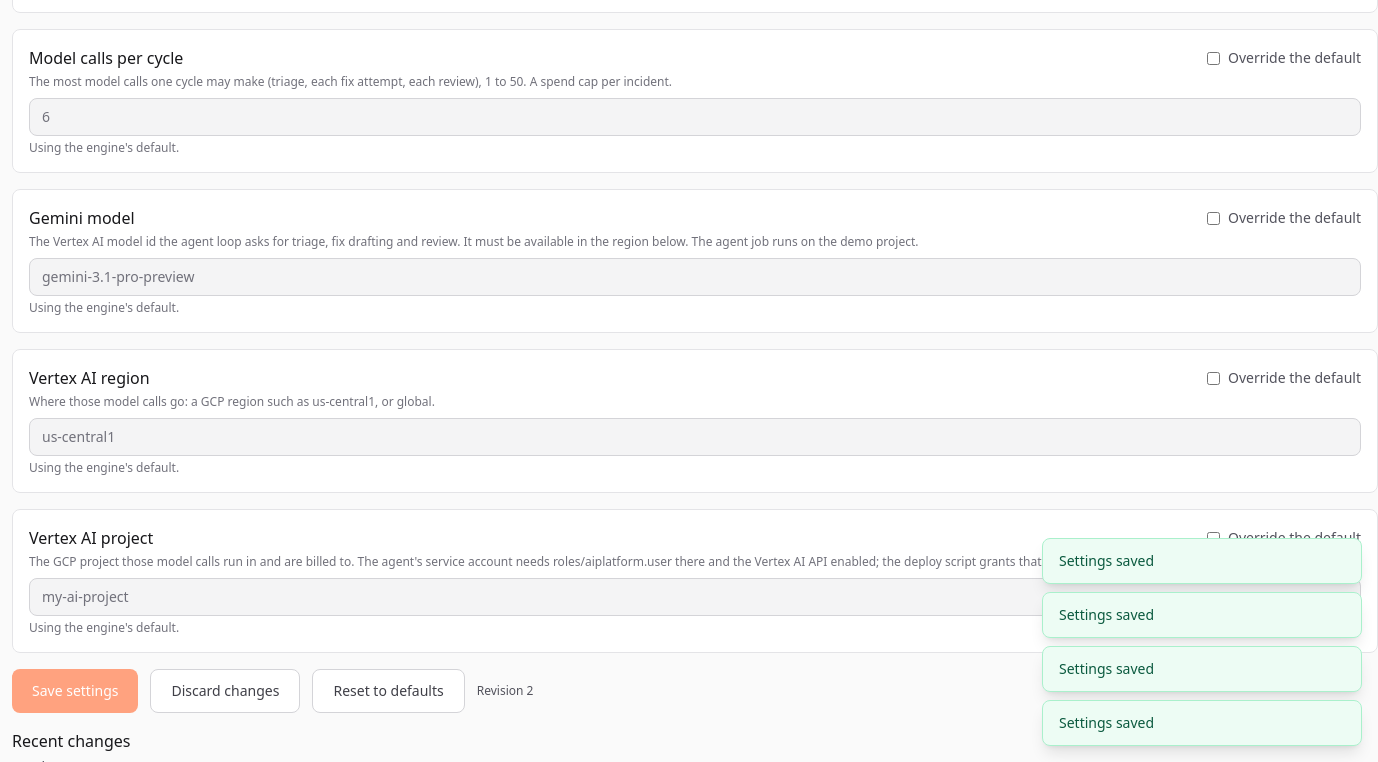
SettingsEditor › refuses a region that isn't one without saving
(page scrolled)
Click the checkbox labelled "Override the default" in the row of "Vertex AI region" at (1214, 378), box [1207, 372, 1220, 384]
(page scrolled)
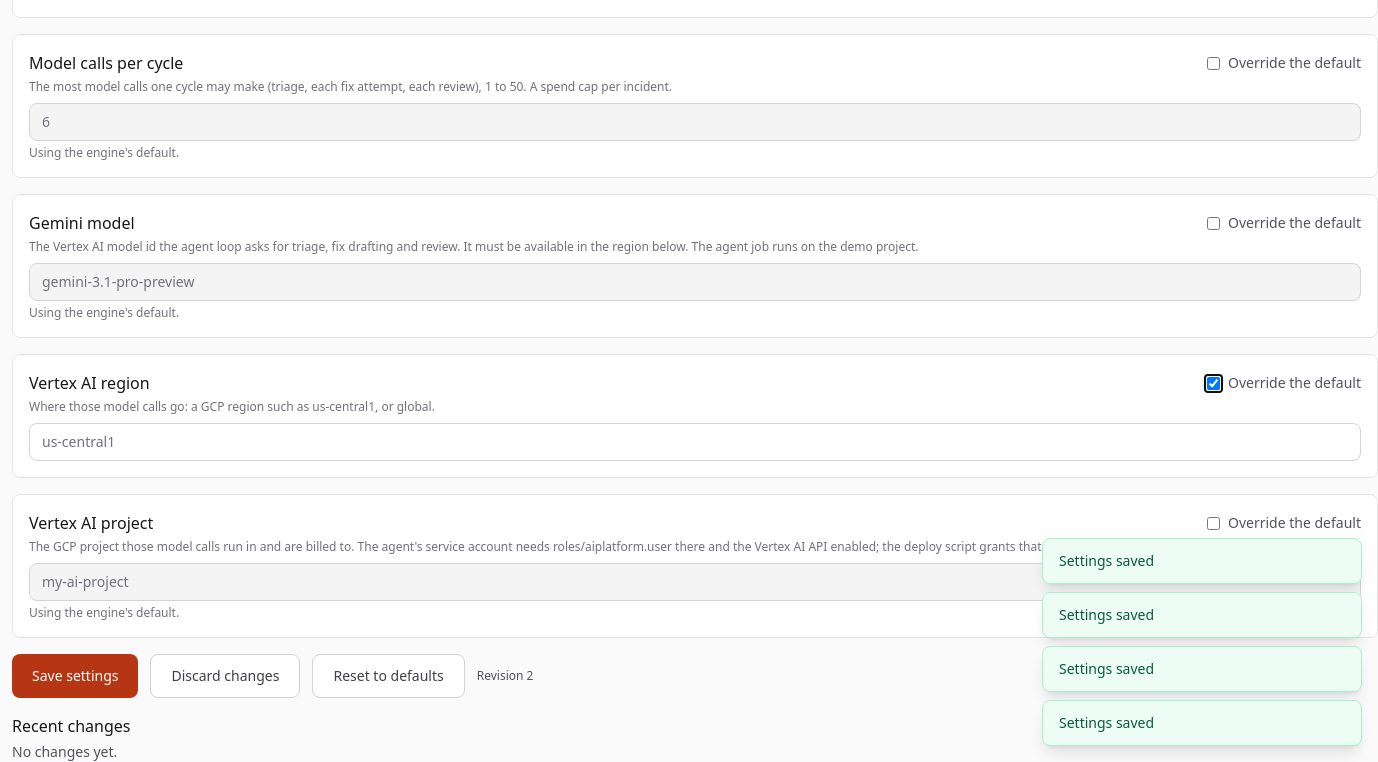
Type "us-central1.example.com" into the field labelled "Vertex AI region" at (695, 442), box [29, 423, 1361, 461]
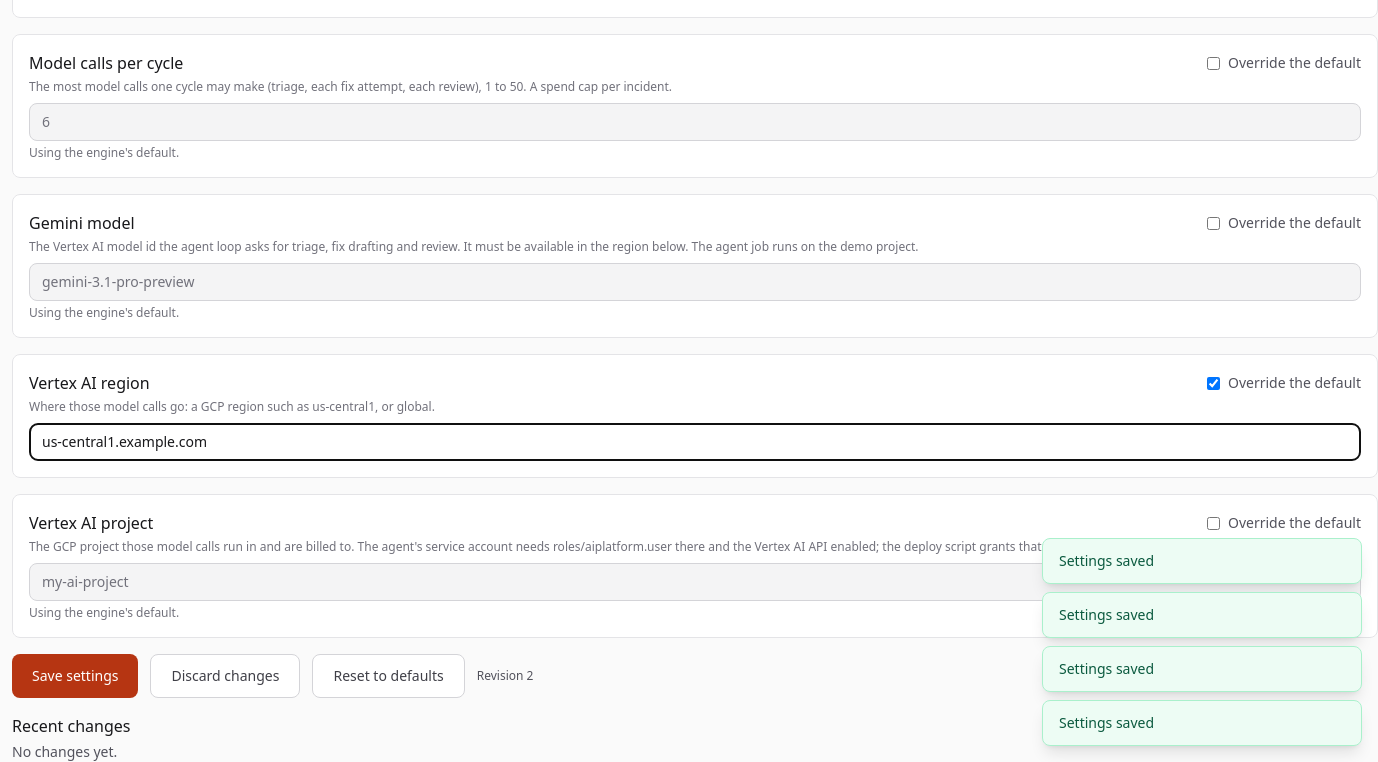
Click the button "Save settings" at (75, 676), box [12, 654, 138, 698]
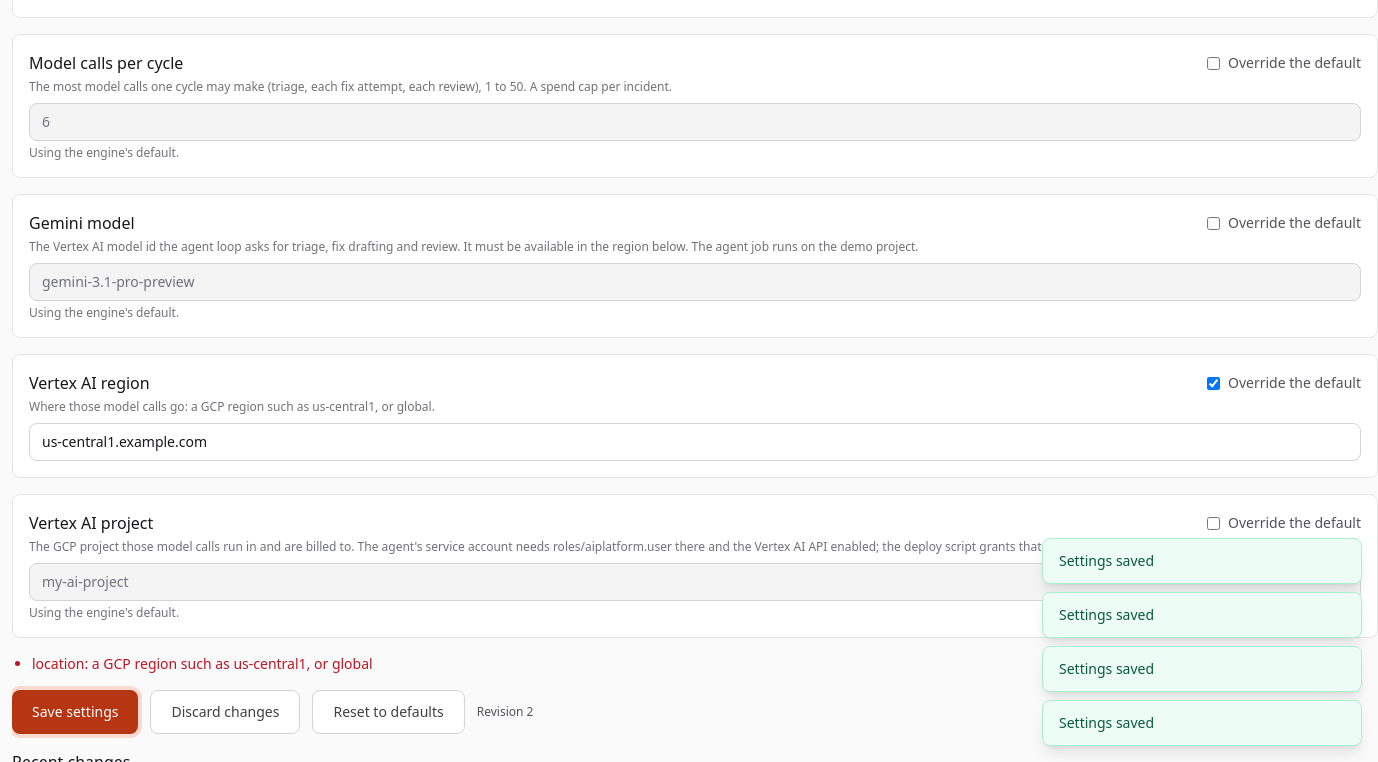
Expected: the message "location: a GCP region such as us-central1, or global" is shown, [32, 654, 373, 673]
